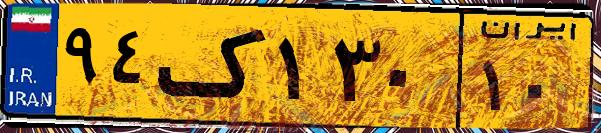0: (385, 28, 445, 110), (525, 38, 570, 115)
1: (270, 28, 330, 110), (475, 38, 525, 113)
3: (330, 28, 385, 110)
4: (110, 28, 158, 98)
9: (57, 26, 110, 100)
ک: (158, 12, 270, 120)
